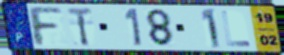1: (200, 8, 222, 49), (122, 7, 144, 48)
8: (144, 7, 175, 48)
F: (24, 5, 65, 47)
L: (220, 10, 253, 47)
T: (65, 6, 94, 47)
